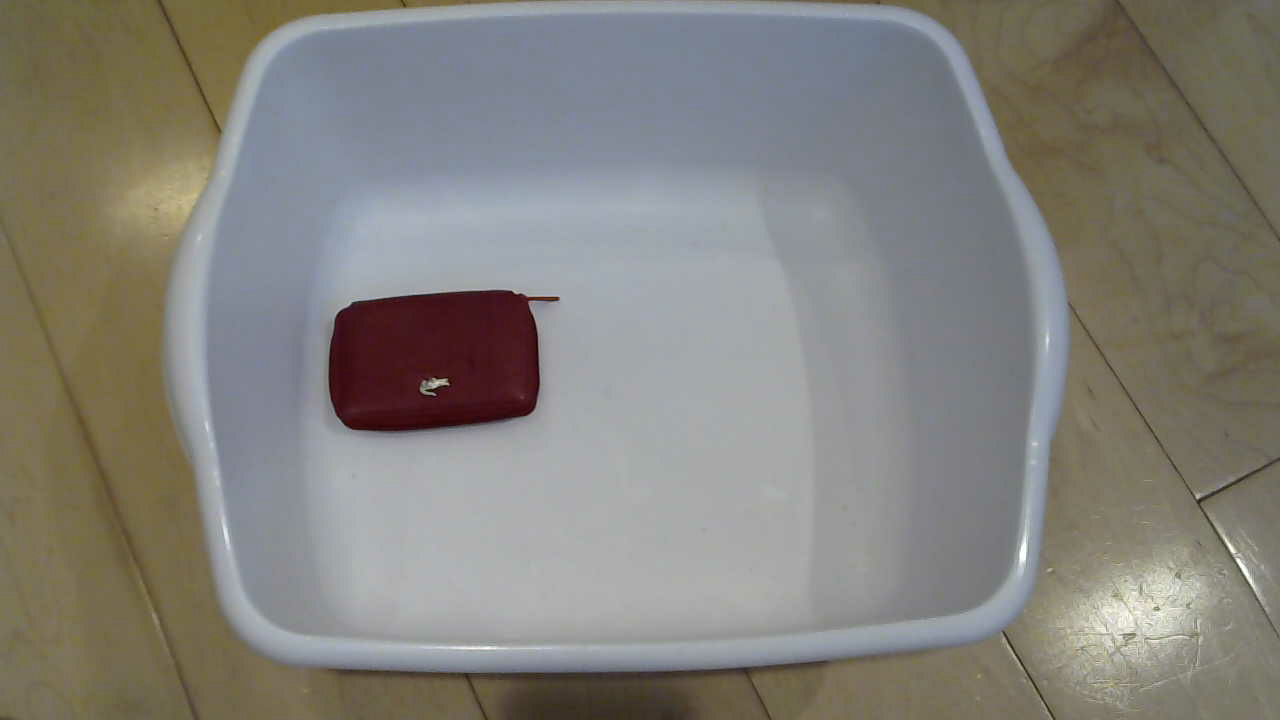wallet: (313, 277, 558, 446)
